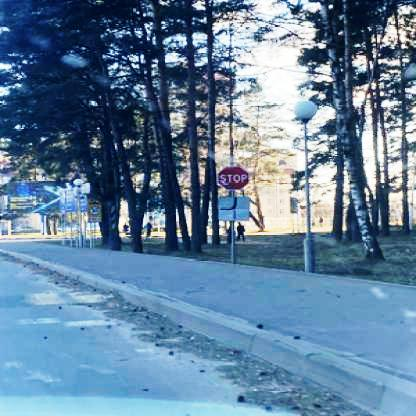Stop Sign: (217, 162, 253, 193)
